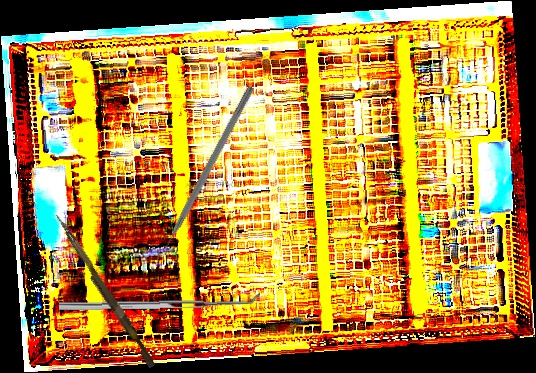Chopper: (148, 80, 255, 260)
Pusher: (49, 213, 160, 369)
Spatula Surgical: (58, 291, 261, 311)
